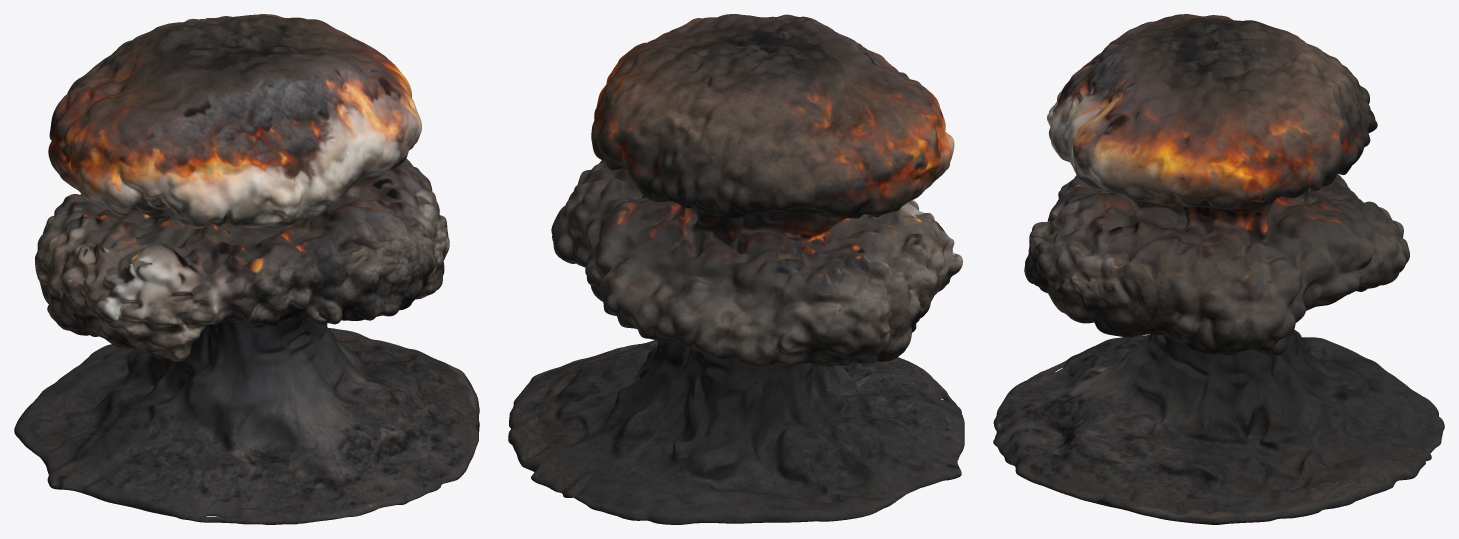
3 renders of one model, left to right at view 1: azimuth 30°, elevation 25°; view 2: azimuth 150°, elevation 25°; view 3: azimuth 270°, elevation 25°, orthographic. The views are drawn at different scales.
Size of the model in its own units: 2.01 by 1.8 by 1.94.
1 material, 1 textured.
